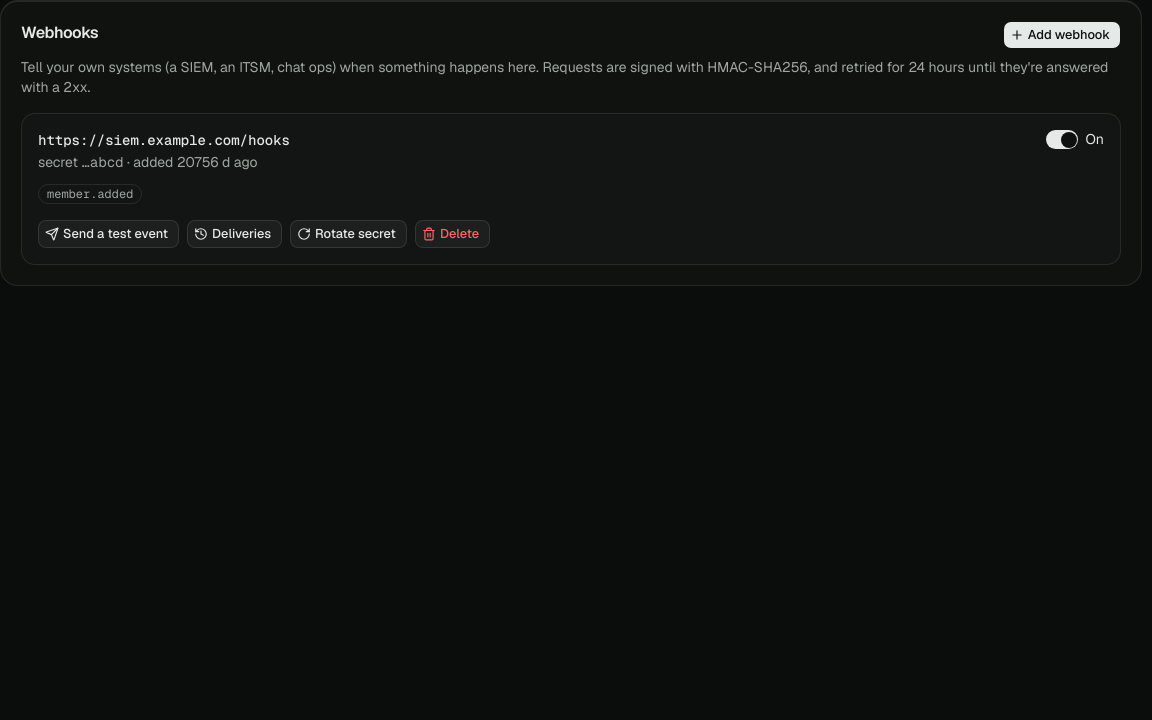
Scenario: WebhooksView: rotating a webhook's secret › asks first, then shows the new secret once, with a copy button
Click the button "Rotate secret" at (348, 234), box 290,220 -> 407,248
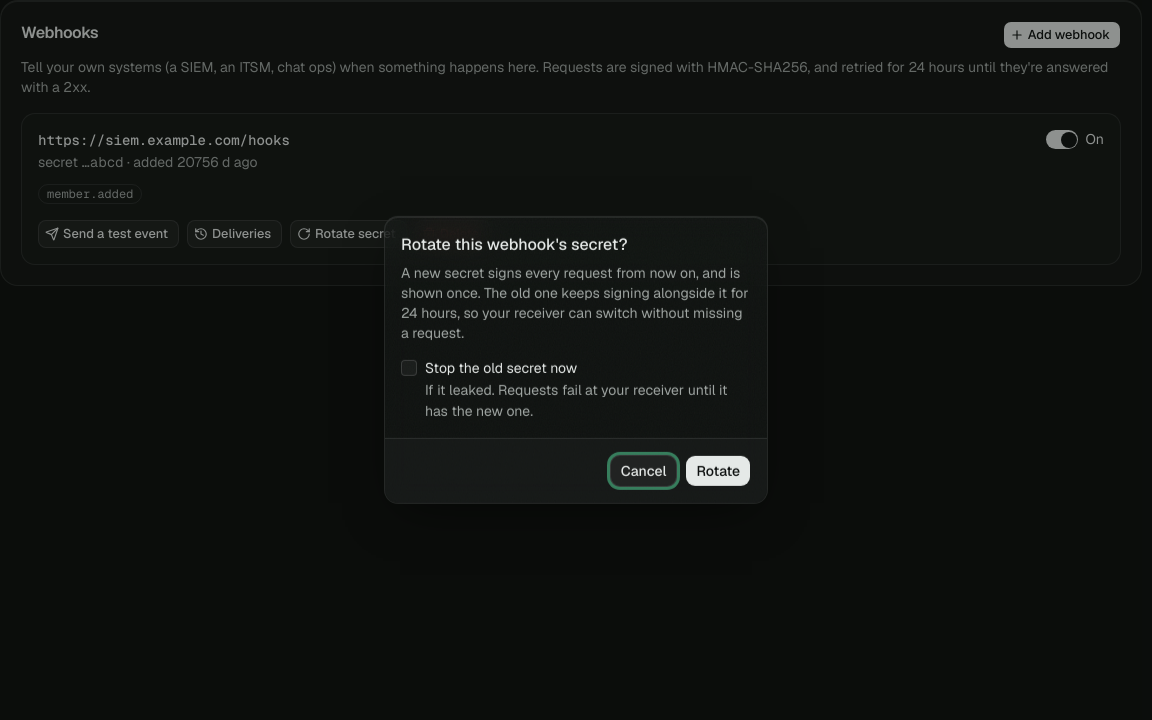
Now the text "keeps signing alongside it for 24 hours" is shown, box 401,263 -> 751,343
Click the button "Rotate" at (718, 471), box 685,455 -> 751,487
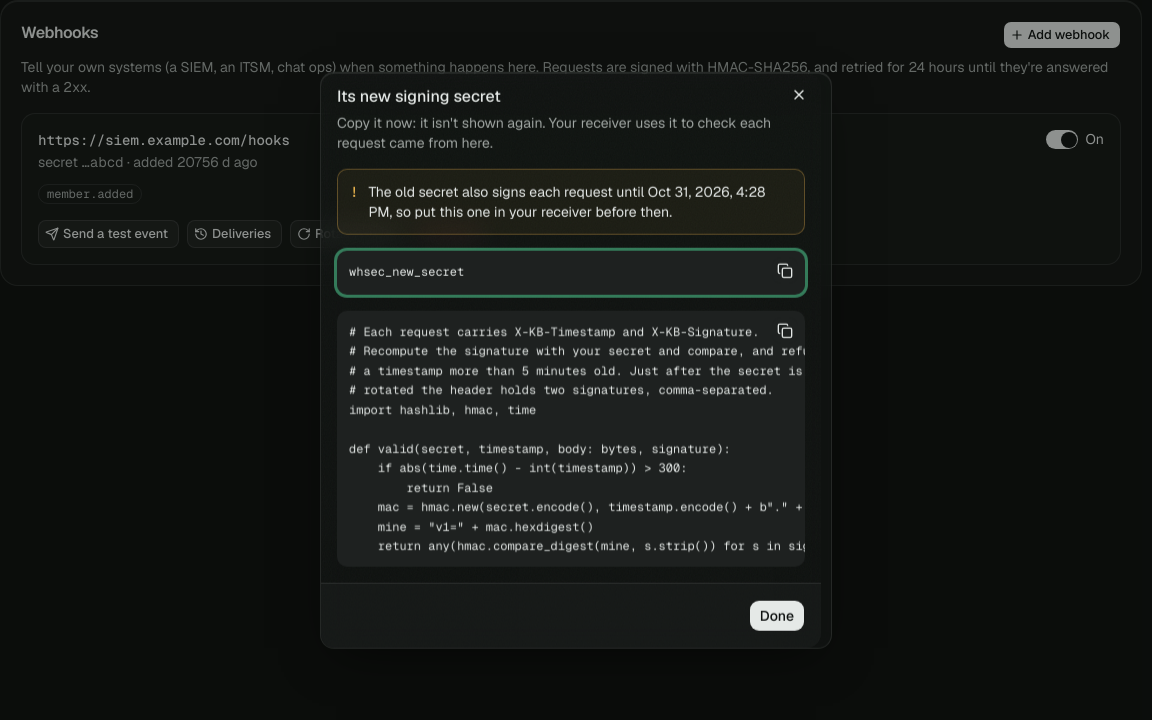
Now the text "whsec_new_secret" is shown, box 337,251 -> 805,294
Now the button named "Copy the secret" is shown, box 771,257 -> 799,285
Now the text "The old secret also signs each request until" is shown, box 368,183 -> 766,221
